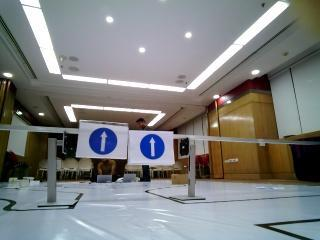straight: (82, 119, 128, 160), (128, 129, 173, 169)
